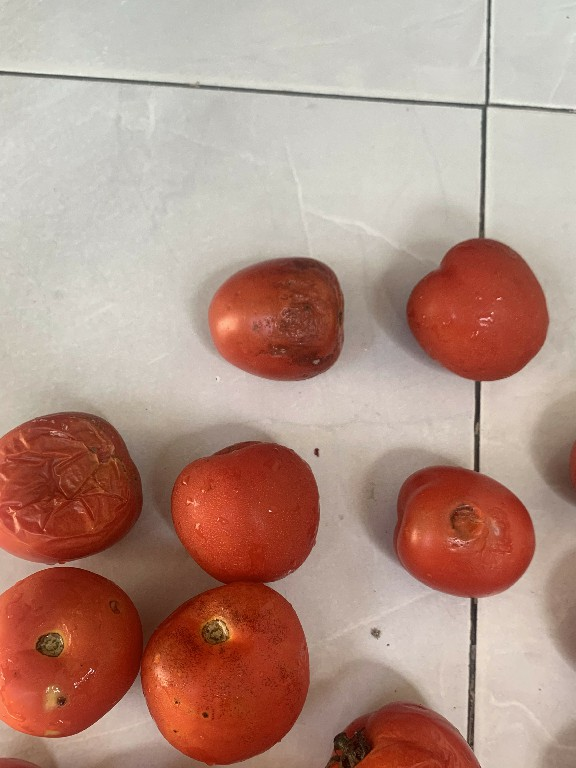NG: (137, 580, 311, 768), (2, 565, 143, 762), (0, 386, 156, 563), (202, 239, 357, 392), (387, 450, 537, 604)
OK: (156, 428, 340, 581), (395, 223, 562, 390)
